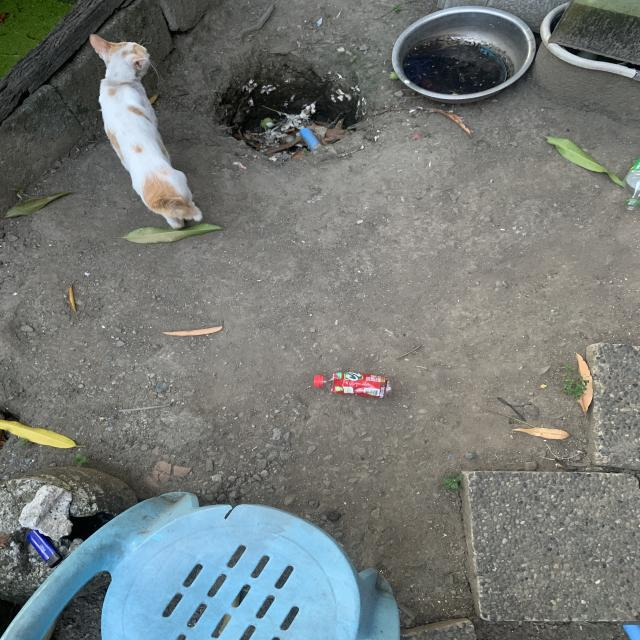Bottle: (311, 368, 392, 399)
